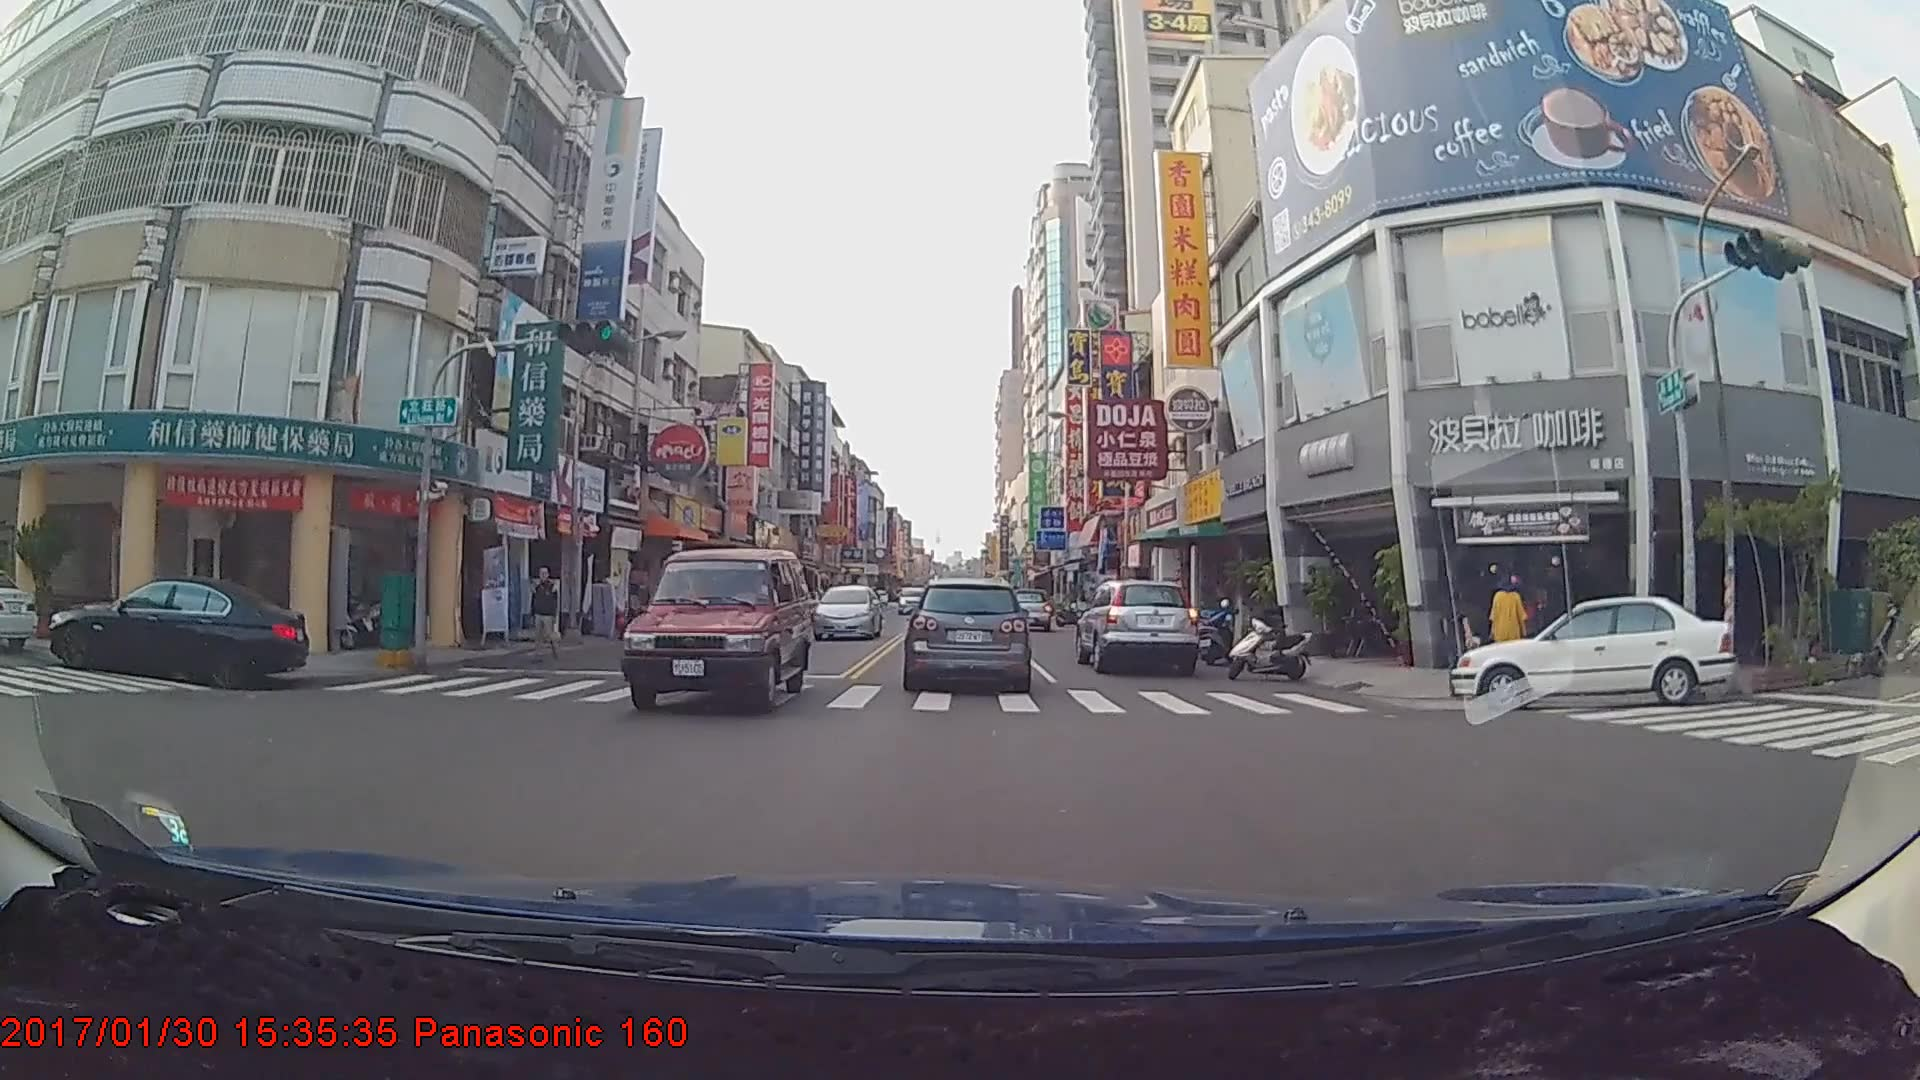pedestrian: (1488, 572, 1528, 669), (1441, 589, 1475, 704), (529, 566, 563, 665)
vehicle: (1449, 593, 1739, 710), (618, 548, 815, 713), (45, 571, 308, 687), (905, 579, 1026, 688), (1071, 577, 1198, 677), (810, 584, 881, 640), (1005, 587, 1051, 630), (895, 583, 930, 614)
